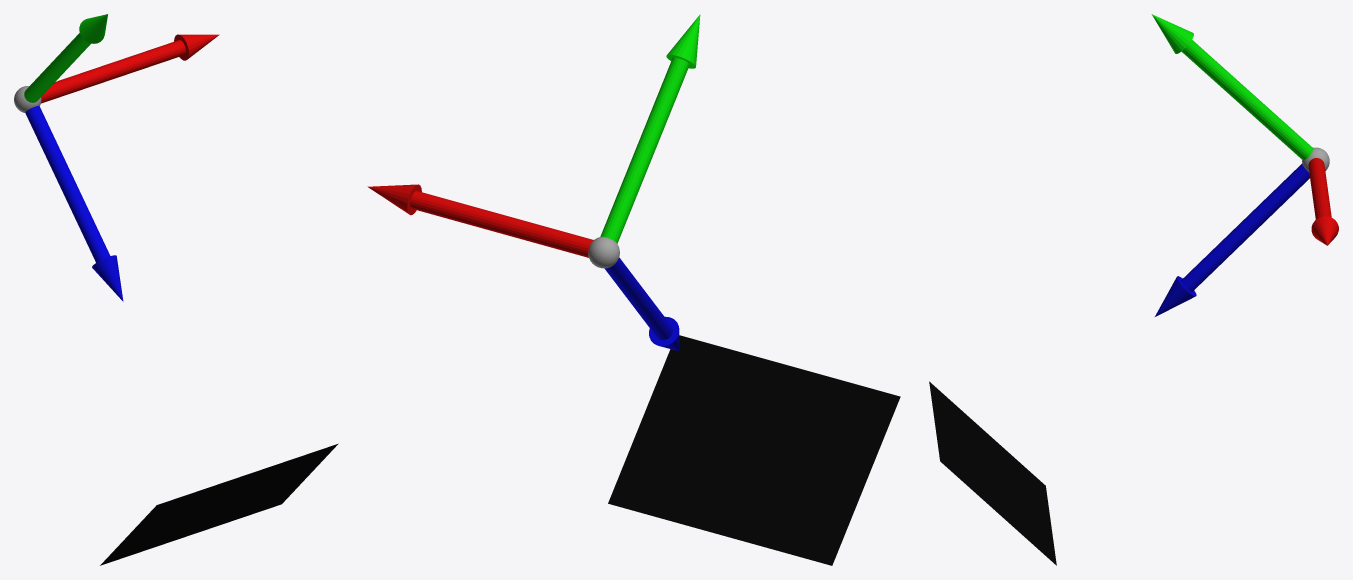
3 views of the same model, side by side, from view 1: azimuth 30°, elevation 25°; view 2: azimuth 150°, elevation 25°; view 3: azimuth 270°, elevation 25° (orthographic). The views are drawn at different scales.
Bounding box in the file's own units: 0.1644 × 0.2999 × 0.222.
